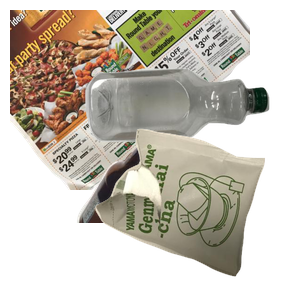glass: (74, 120, 244, 300)
paper: (10, 10, 250, 190)
plastic: (83, 66, 300, 201)
trash: (93, 126, 300, 300)
